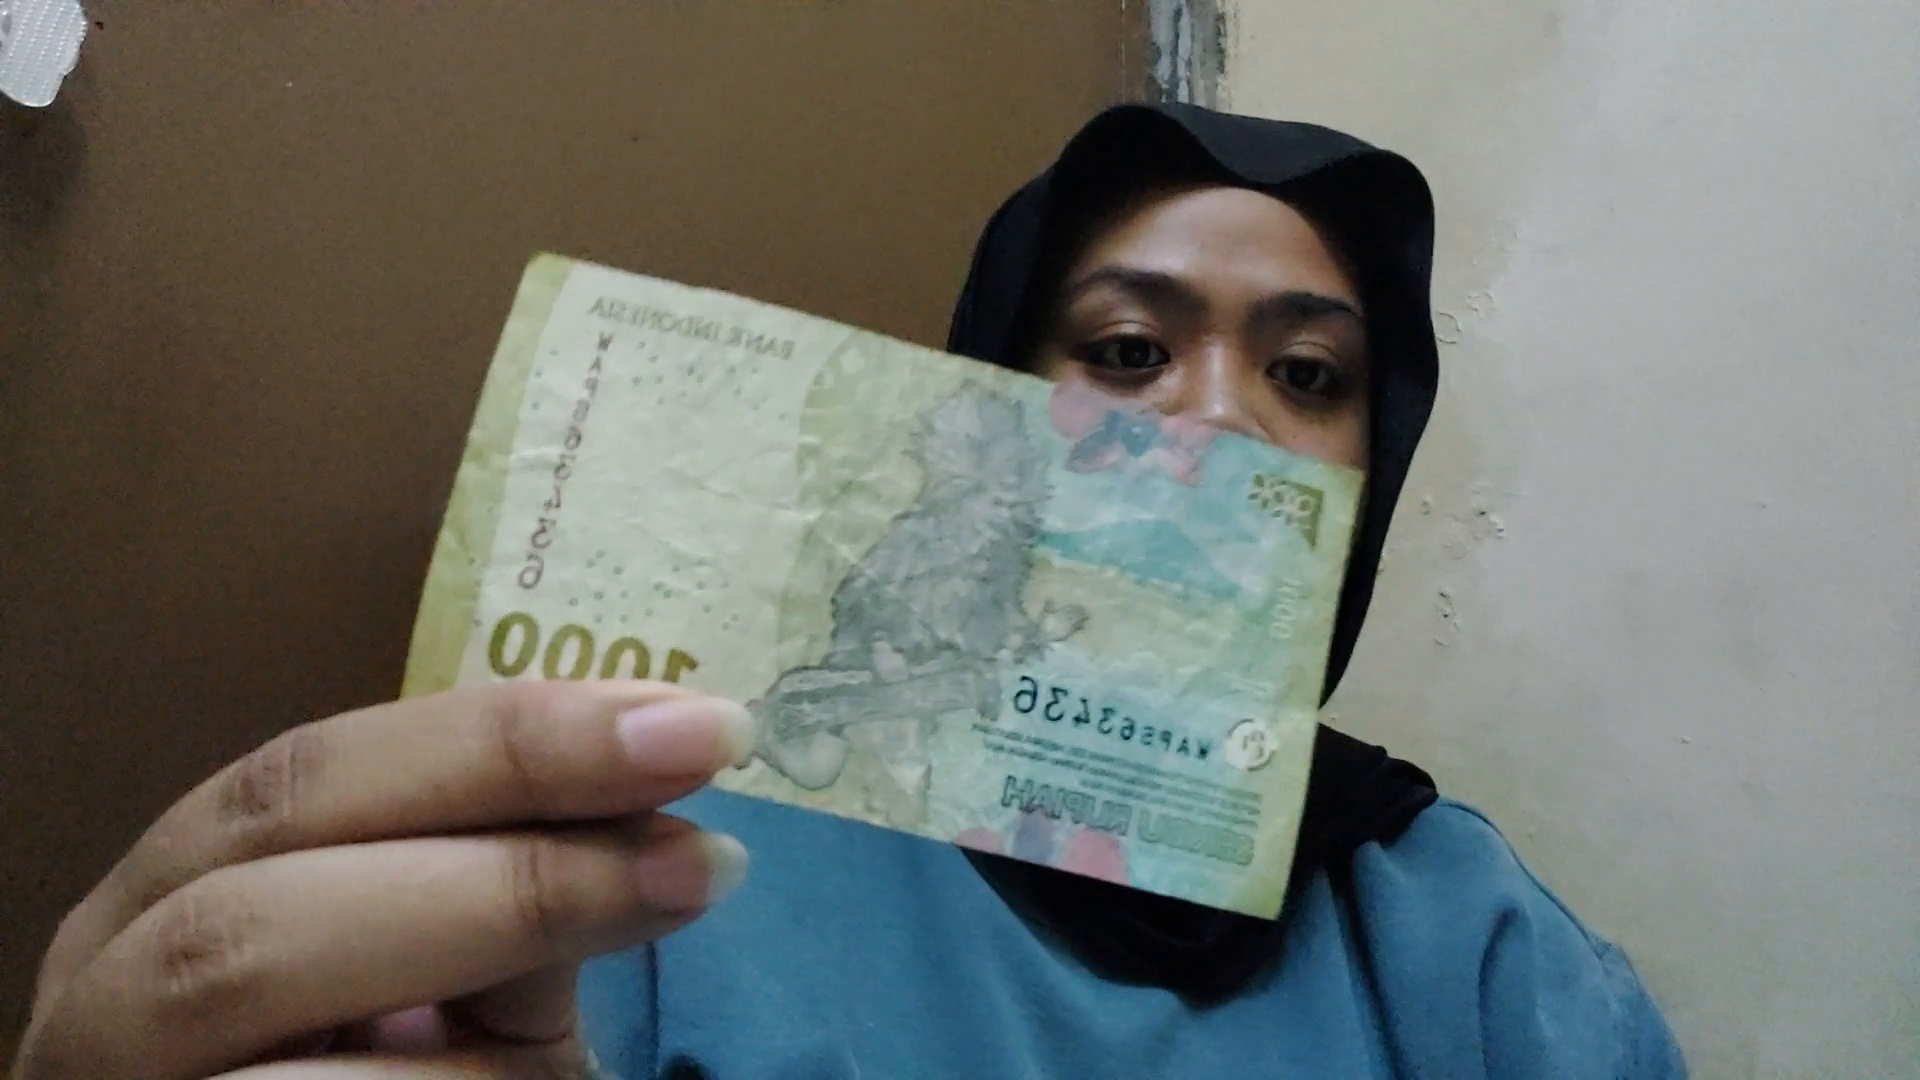1k: (525, 240, 1418, 713)
